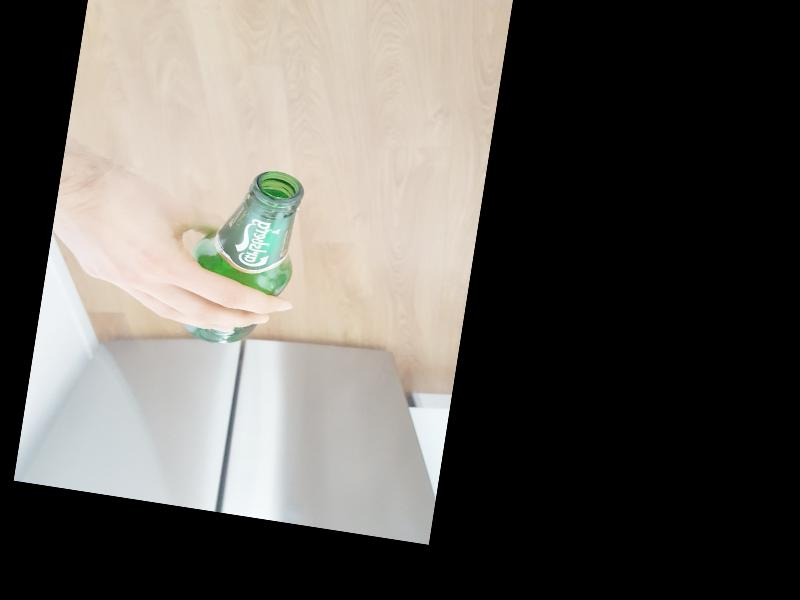Beer: (180, 160, 306, 352)
